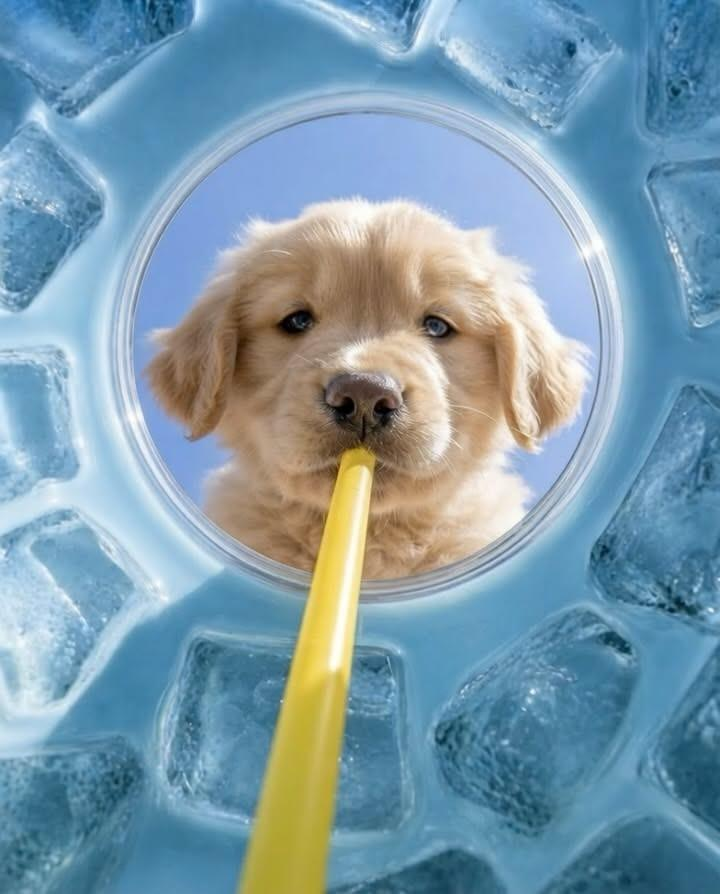puppy-dog: (143, 197, 598, 584)
